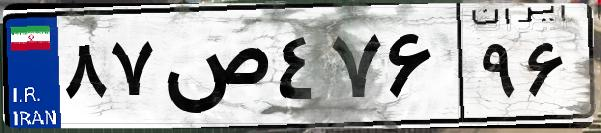4: (270, 28, 330, 110)
6: (385, 28, 445, 110), (525, 38, 570, 115)
7: (330, 28, 385, 110), (110, 28, 158, 98)
8: (57, 26, 110, 100)
9: (475, 38, 525, 113)
ص: (158, 20, 270, 120)
